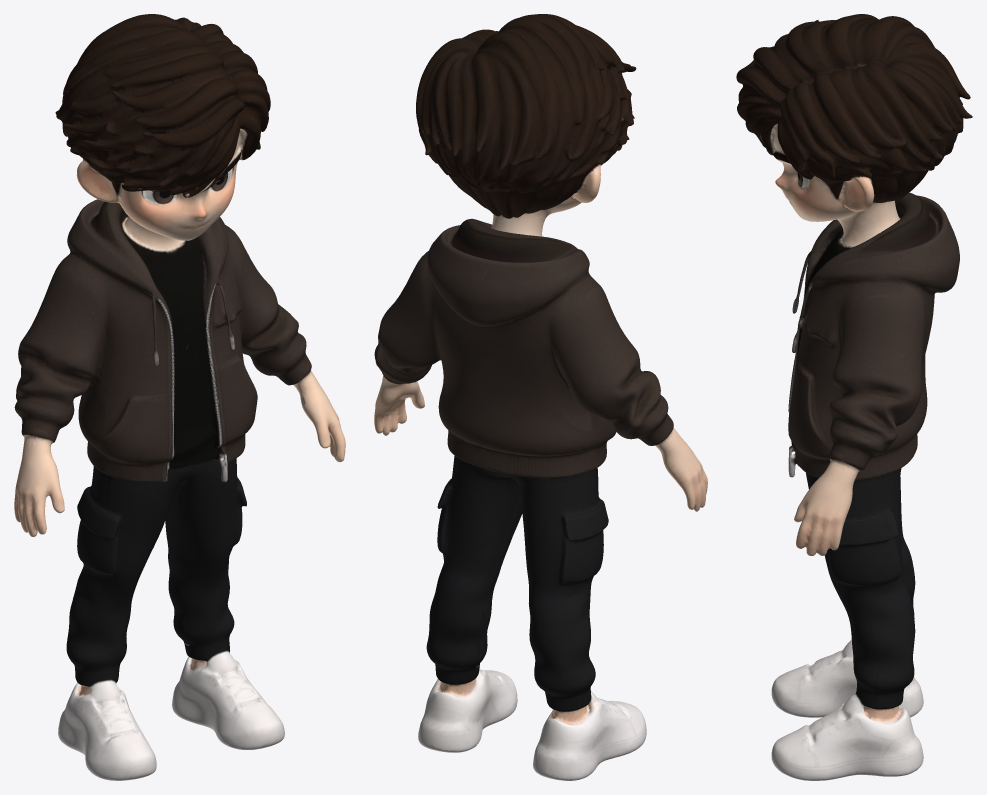
Rendered from shakil-3d-character.glb.glb.
The picture shows the model from 3 angles, left to right: view 1: azimuth 30°, elevation 25°; view 2: azimuth 150°, elevation 25°; view 3: azimuth 270°, elevation 25°; orthographic projection.
Size of the model in its own units: 0.8883 by 1.9 by 0.5656.
Materials: 1 (1 with a texture image).
